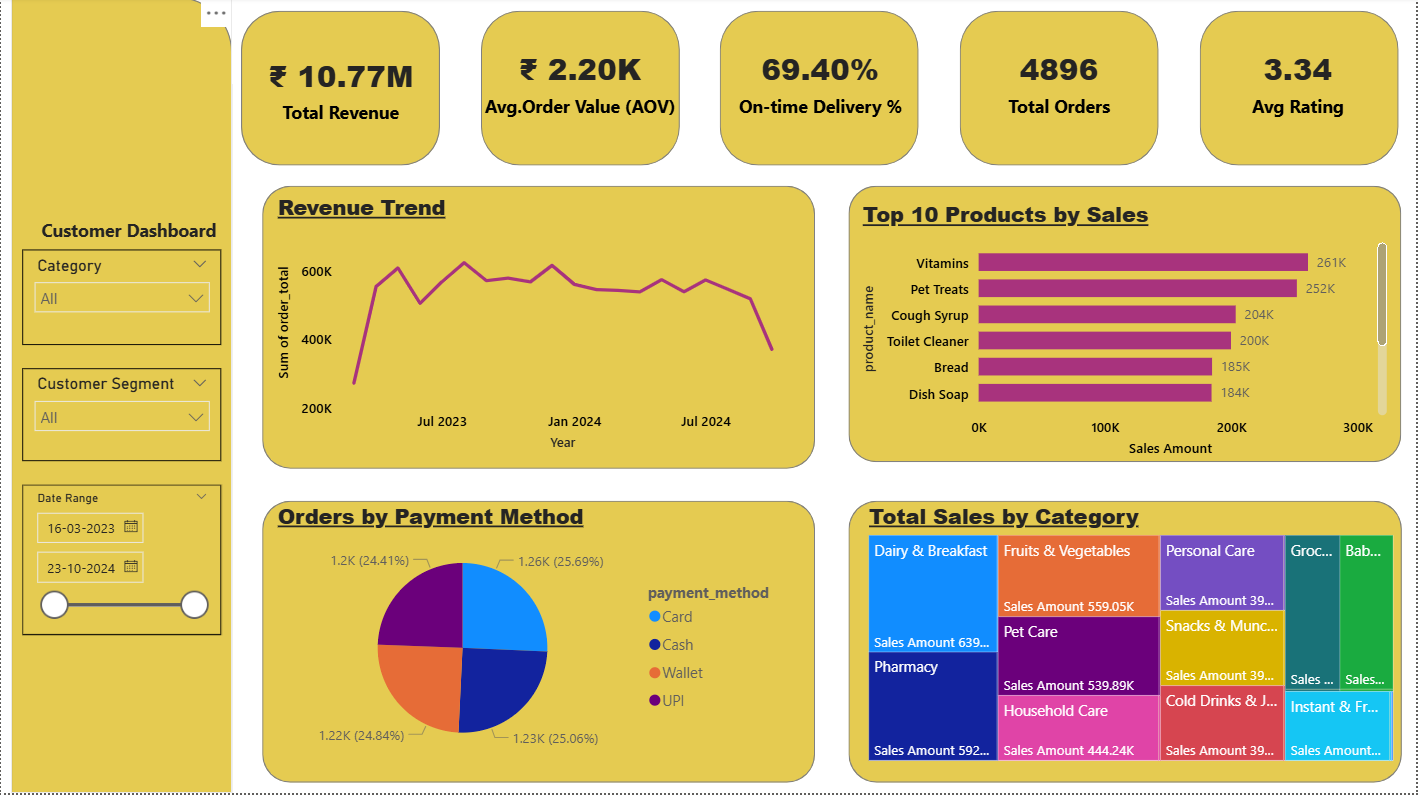

This screenshot's page, from the dashboard's own definition file:
{"tool":"powerbi","page":{"name":"Customer Dashboard ","canvas":[1280,720],"ordinal":0},"visuals":[{"type":"shape","box":[236,170.9,500,256],"z":0},{"type":"shape","box":[1084.1,12.4,179.8,140],"z":1000},{"type":"shape","box":[867.3,12.4,179.8,140],"z":2000},{"type":"shape","box":[650.6,12.4,179.8,140],"z":3000},{"type":"shape","box":[433.8,12.4,179.8,140],"z":4000},{"type":"shape","box":[9.6,0,200,720.4],"z":5000},{"type":"shape","box":[216.8,12.3,180,140],"z":6000},{"type":"textbox","box":[0,193.9,236,33.9],"z":7000},{"type":"card","title":"Total Customers","fields":{"Values":["blinkit_orders.Total Revenue"]},"box":[223.7,35.7,167.4,93.3],"z":8000},{"type":"card","title":"Total Customers","fields":{"Values":["blinkit_orders.Total Orders"]},"box":[850.8,17.8,214.1,118],"z":9000},{"type":"card","title":"Total Customers","fields":{"Values":["blinkit_orders.Avg.Order Value (AOV)"]},"box":[425.4,23.3,197.6,105.7],"z":10000},{"type":"card","title":"Total Customers","fields":{"Values":["blinkit_delivery_performance.On-time Delivery %"]},"box":[634,17.8,214.1,118],"z":11000},{"type":"card","title":"Total Customers","fields":{"Values":["blinkit_customer_feedback.Avg Rating"]},"box":[1066.2,17.8,214.1,118],"z":12000},{"type":"lineChart","title":"Revenue Trend","fields":{"Category":["blinkit_orders.order_date.Variation.Date Hierarchy.Year","blinkit_orders.order_date.Variation.Date Hierarchy.Quarter","blinkit_orders.order_date.Variation.Date Hierarchy.Month","blinkit_orders.order_date.Variation.Date Hierarchy.Day"],"Y":["Sum(blinkit_orders.order_total)"]},"box":[245.5,176.3,480.1,238.7],"z":13000},{"type":"shape","box":[766.3,170.9,500,250],"z":14000},{"type":"shape","box":[766.3,455.7,500.4,255],"z":15000},{"type":"shape","box":[236,455.7,500,255],"z":16000},{"type":"barChart","title":"Top 10 Products by Sales","fields":{"Y":["blinkit_order_items.Sales Amount"],"Category":["blinkit_products.product_name"]},"box":[774.4,183.1,484.2,237.3],"z":17000},{"type":"pieChart","title":"Orders by Payment Method","fields":{"Category":["blinkit_orders.payment_method"],"Y":["Count(blinkit_orders.order_id)"]},"box":[245.5,455.7,470.6,240.1],"z":18000},{"type":"treemap","title":"Total Sales by Category","fields":{"Group":["blinkit_products.category"],"Values":["blinkit_orders.Total Orders","blinkit_order_items.Sales Amount"]},"box":[779.8,455.7,484.2,240.1],"z":19000},{"type":"slicer","fields":{"Values":["blinkit_orders.order_date"]},"box":[19,440.8,180.4,135.6],"z":20000},{"type":"slicer","fields":{"Values":["blinkit_customers.customer_segment"]},"box":[19,336.3,180.4,84.1],"z":21000},{"type":"slicer","fields":{"Values":["blinkit_products.category"]},"box":[19,227.8,180.4,86.8],"z":22000}]}

Visuals, with their boxes in screenshot pixels (x1, y1, x2, y2), scaled from the page's 1280x720 canvas onto the 1418x796 screenshot:
shape: (x1=261, y1=189, x2=815, y2=472)
shape: (x1=1201, y1=14, x2=1400, y2=168)
shape: (x1=961, y1=14, x2=1160, y2=168)
shape: (x1=721, y1=14, x2=920, y2=168)
shape: (x1=481, y1=14, x2=680, y2=168)
shape: (x1=11, y1=0, x2=232, y2=795)
shape: (x1=240, y1=14, x2=440, y2=168)
textbox: (x1=0, y1=214, x2=261, y2=252)
"Total Customers" card: (x1=248, y1=39, x2=433, y2=143)
"Total Customers" card: (x1=943, y1=20, x2=1180, y2=150)
"Total Customers" card: (x1=471, y1=26, x2=690, y2=143)
"Total Customers" card: (x1=702, y1=20, x2=940, y2=150)
"Total Customers" card: (x1=1181, y1=20, x2=1417, y2=150)
"Revenue Trend" lineChart: (x1=272, y1=195, x2=804, y2=459)
shape: (x1=849, y1=189, x2=1403, y2=465)
shape: (x1=849, y1=504, x2=1403, y2=786)
shape: (x1=261, y1=504, x2=815, y2=786)
"Top 10 Products by Sales" barChart: (x1=858, y1=202, x2=1394, y2=465)
"Orders by Payment Method" pieChart: (x1=272, y1=504, x2=793, y2=769)
"Total Sales by Category" treemap: (x1=864, y1=504, x2=1400, y2=769)
slicer - blinkit_orders.order_date: (x1=21, y1=487, x2=221, y2=637)
slicer - blinkit_customers.customer_segment: (x1=21, y1=372, x2=221, y2=465)
slicer - blinkit_products.category: (x1=21, y1=252, x2=221, y2=348)
